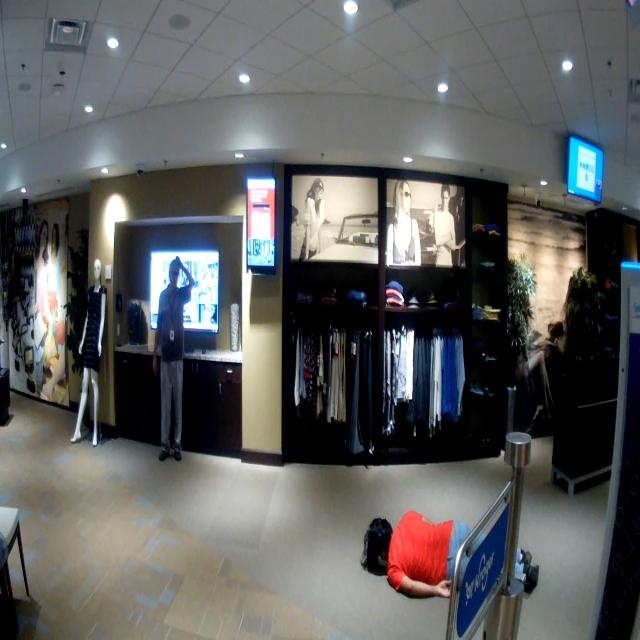fall: (349, 471, 545, 618)
normal: (150, 241, 203, 487)
